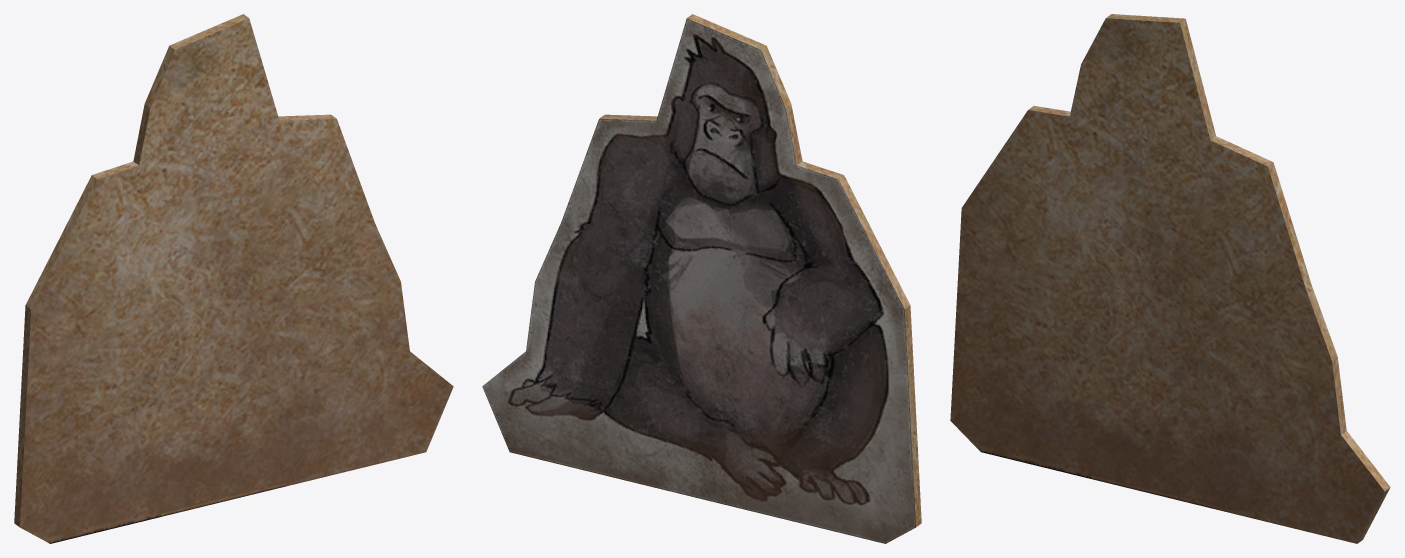
Rendered from gorilla.DAE.
The picture shows the model from 3 angles, left to right: view 1: azimuth 30°, elevation 25°; view 2: azimuth 150°, elevation 25°; view 3: azimuth 330°, elevation 25°; orthographic projection.
Parts seen in each view (by area): view 1: gorilla_a40; view 2: gorilla_a40; view 3: gorilla_a40.
Boxes of the visible parts, x1,y1,x2,y2 form: gorilla_a40: (14, 14, 453, 543); gorilla_a40: (482, 14, 921, 543); gorilla_a40: (950, 14, 1390, 543).
Size of the model in its own units: 1.88 by 0.0432 by 1.98.
